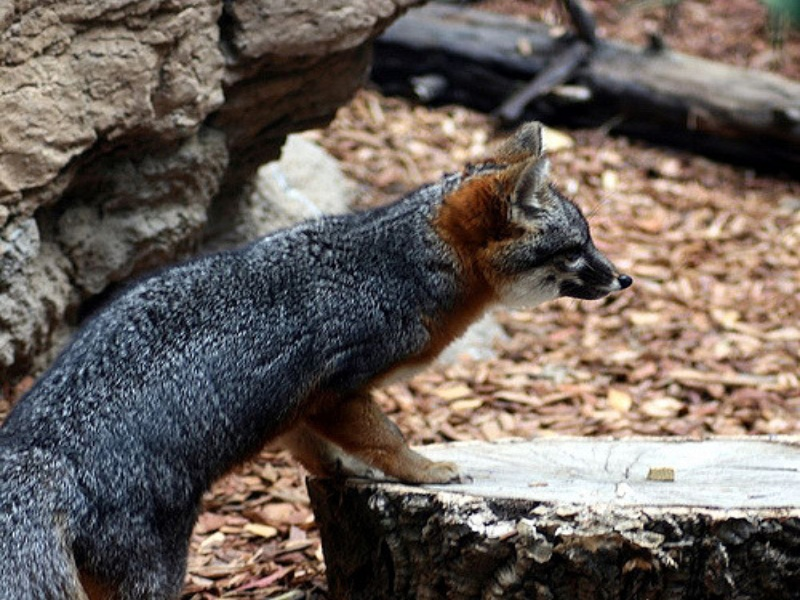fox: (4, 117, 638, 600)
